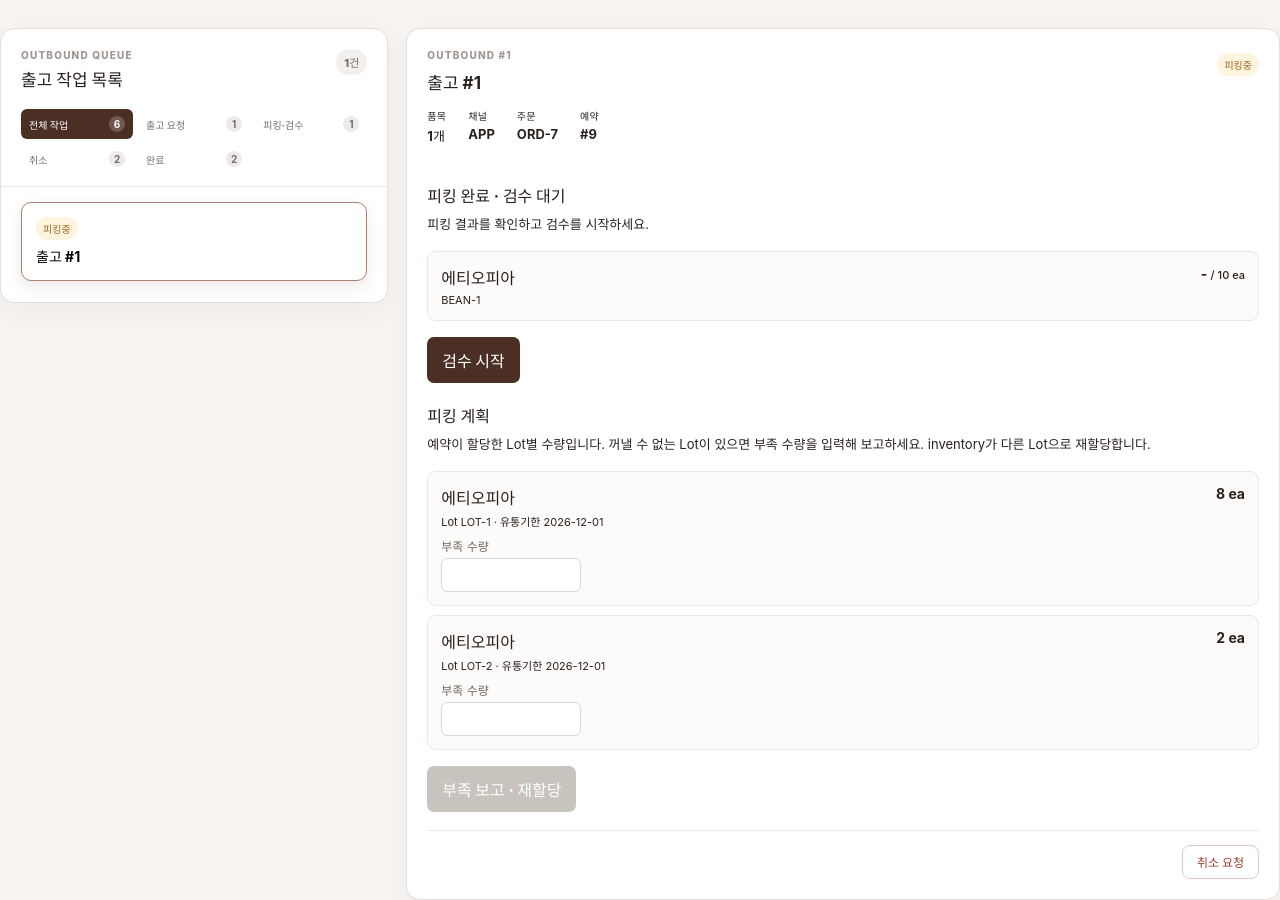
Test case: OutboundManagementPage › 피킹 중 출고는 취소 요청이 관리자 승인을 기다린다는 안내를 보여준다
This screenshot has width=1280, height=900.
(page scrolled)
Click the button "취소 요청" at {"x": 1220, "y": 862}, box [1182,845,1259,879]
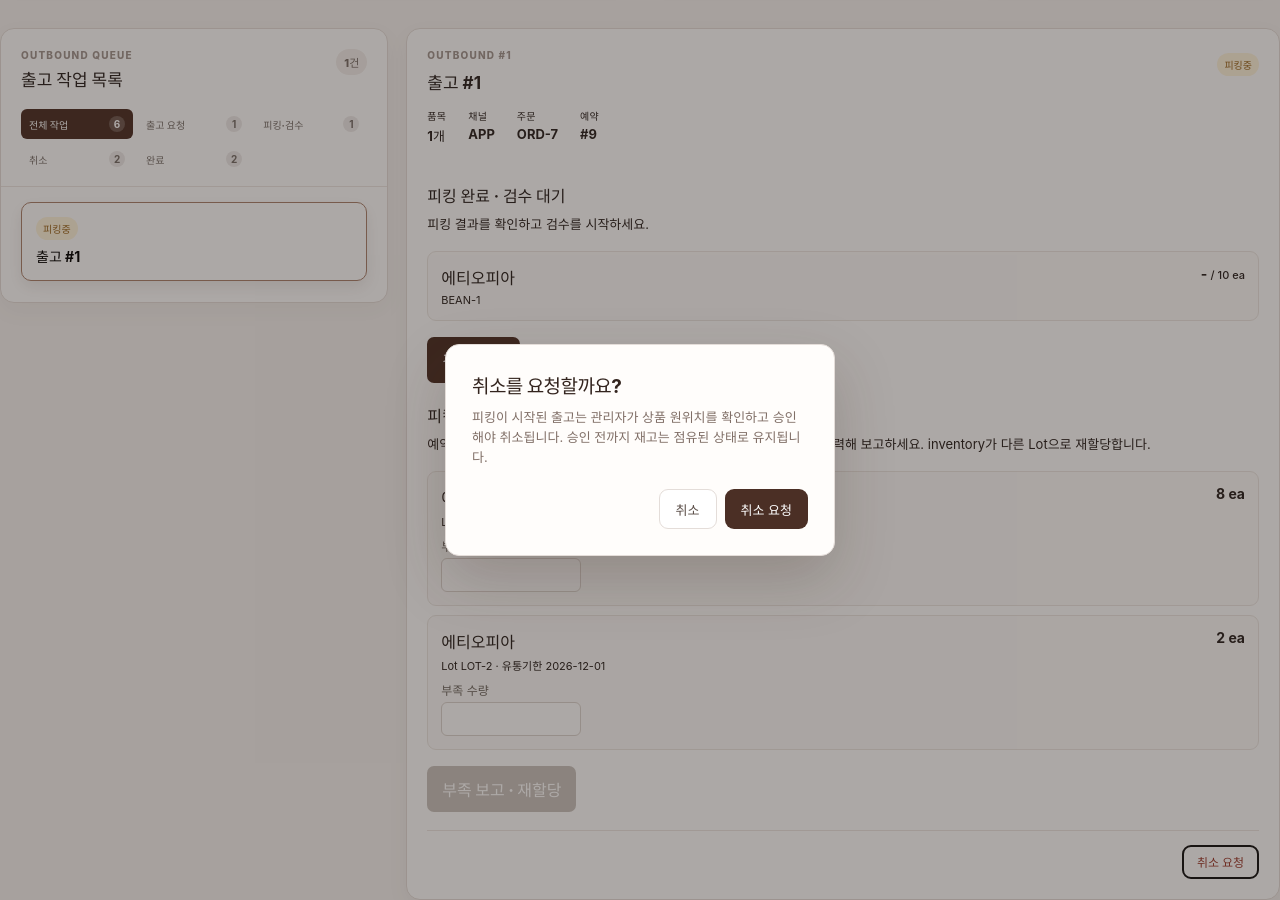
Expected: the heading "취소를 요청할까요?" is shown, [472,375,621,398]
Expected: the text "관리자가 상품 원위치를 확인하고 승인해야 취소됩니다" is shown, [472,409,800,465]
